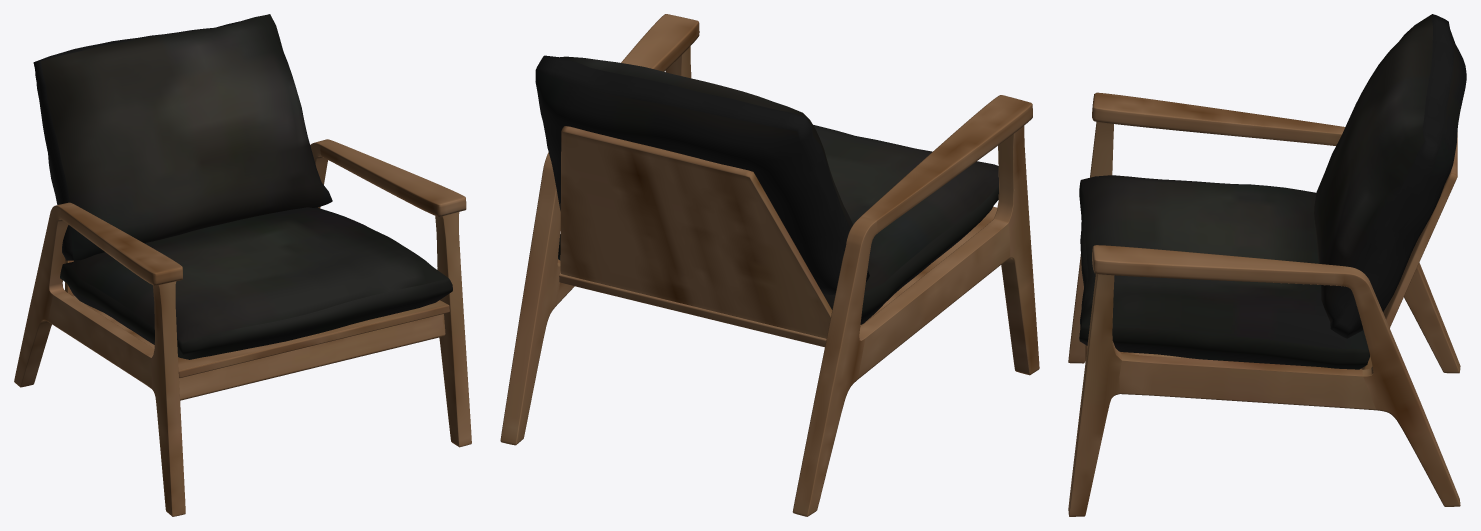
File: ph-modern-arm-chair-01.glb
3 views of the same model, side by side, from view 1: azimuth 30°, elevation 25°; view 2: azimuth 150°, elevation 25°; view 3: azimuth 270°, elevation 25° (orthographic). The views are drawn at different scales.
Visible parts, largest first — view 1: modern_arm_chair_01; view 2: modern_arm_chair_01; view 3: modern_arm_chair_01.
Part boxes in pixels (x1=…): modern_arm_chair_01: x1=14, y1=14, x2=471, y2=516; modern_arm_chair_01: x1=500, y1=14, x2=1039, y2=516; modern_arm_chair_01: x1=1068, y1=14, x2=1466, y2=516.
Size of the model in its own units: 1 by 1 by 1.
2 materials, 2 textured.
